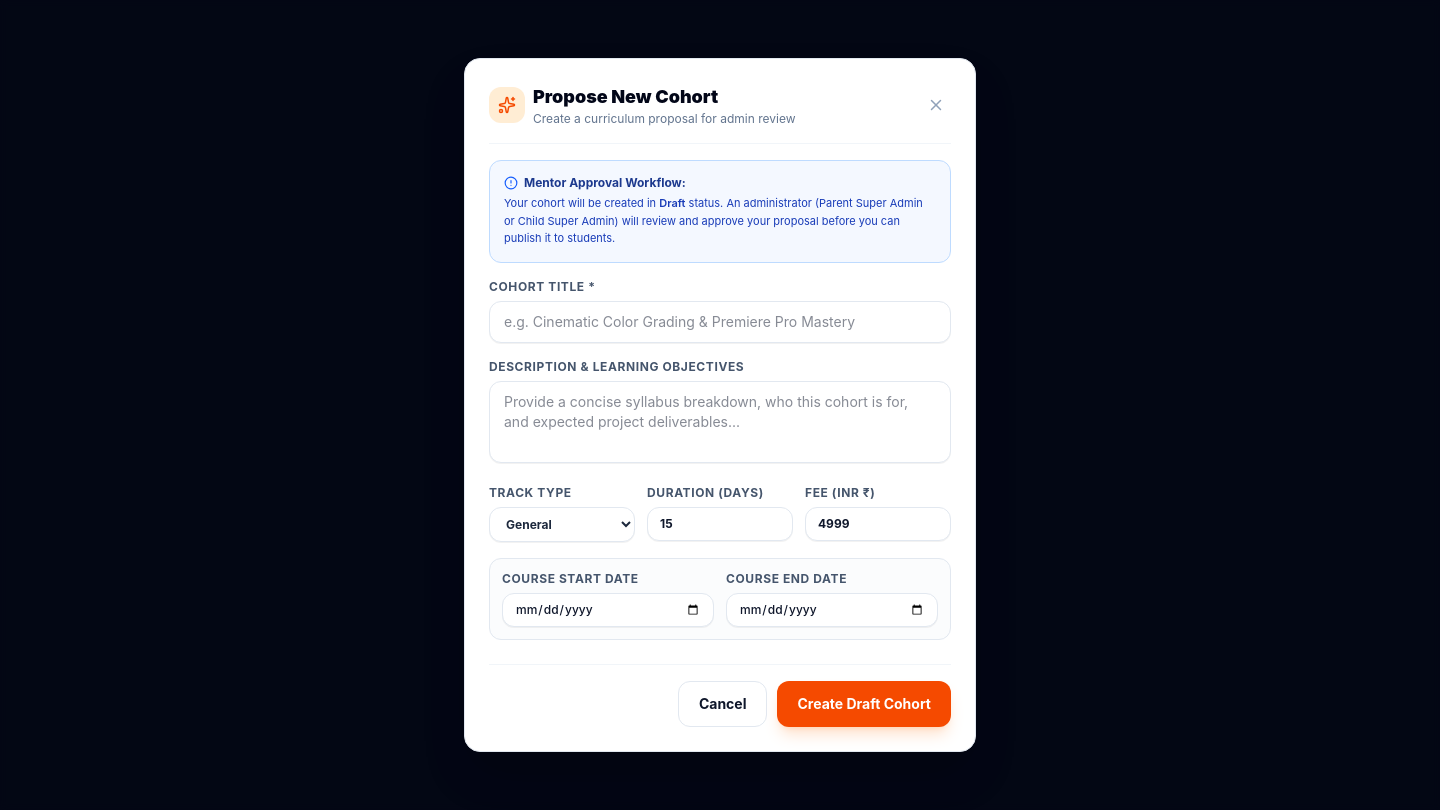
Scenario: MentorCreateCohortModal Schedule & Duration Tests › prevents submission when course end date is earlier than start date
Type "Test Cohort" into the field with placeholder "e.g. Cinematic Color Grading & Premiere Pro Mastery" at (720, 322), box [489, 301, 951, 343]
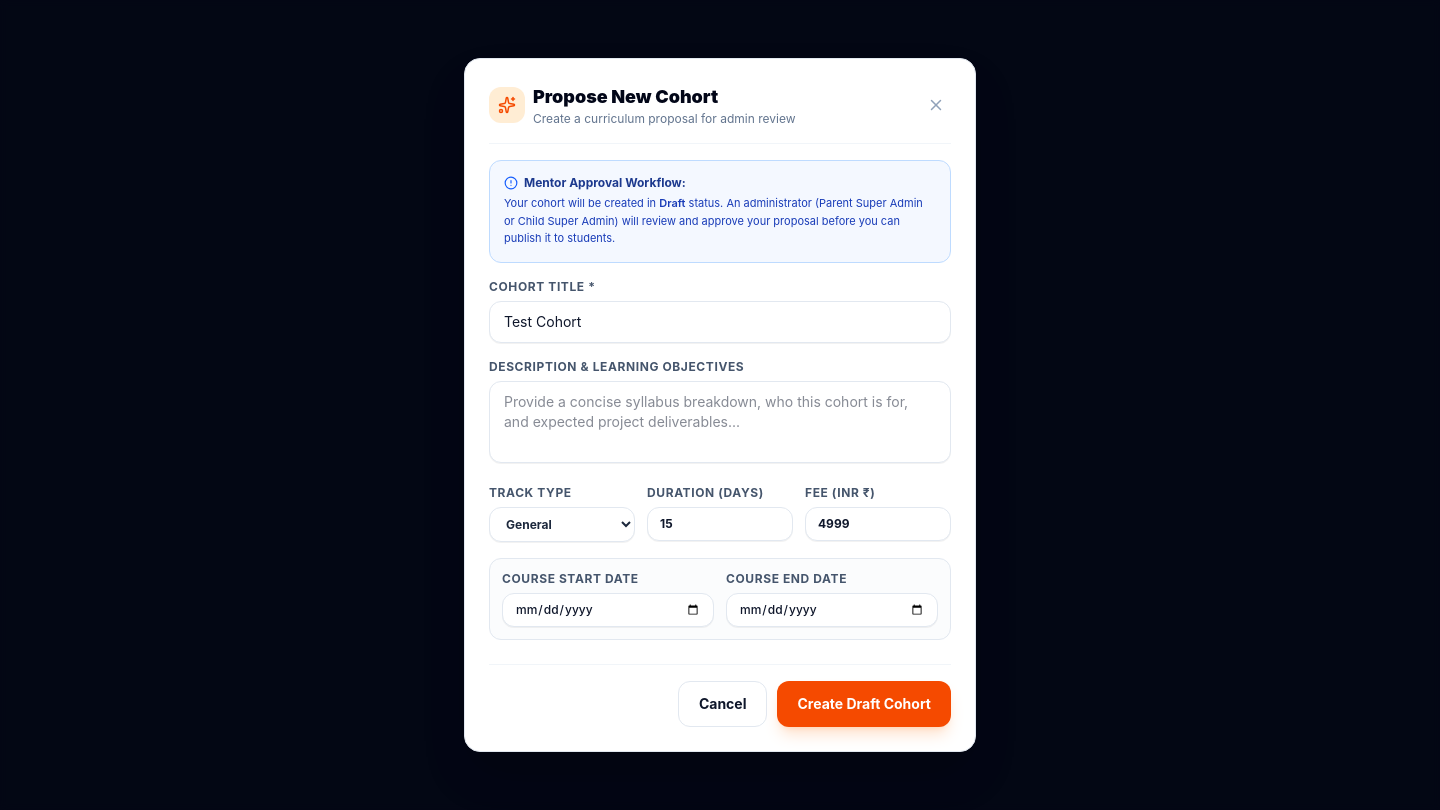
Type "2026-11-10" into the date field labelled "Course Start Date" at (608, 610), box [502, 593, 714, 627]
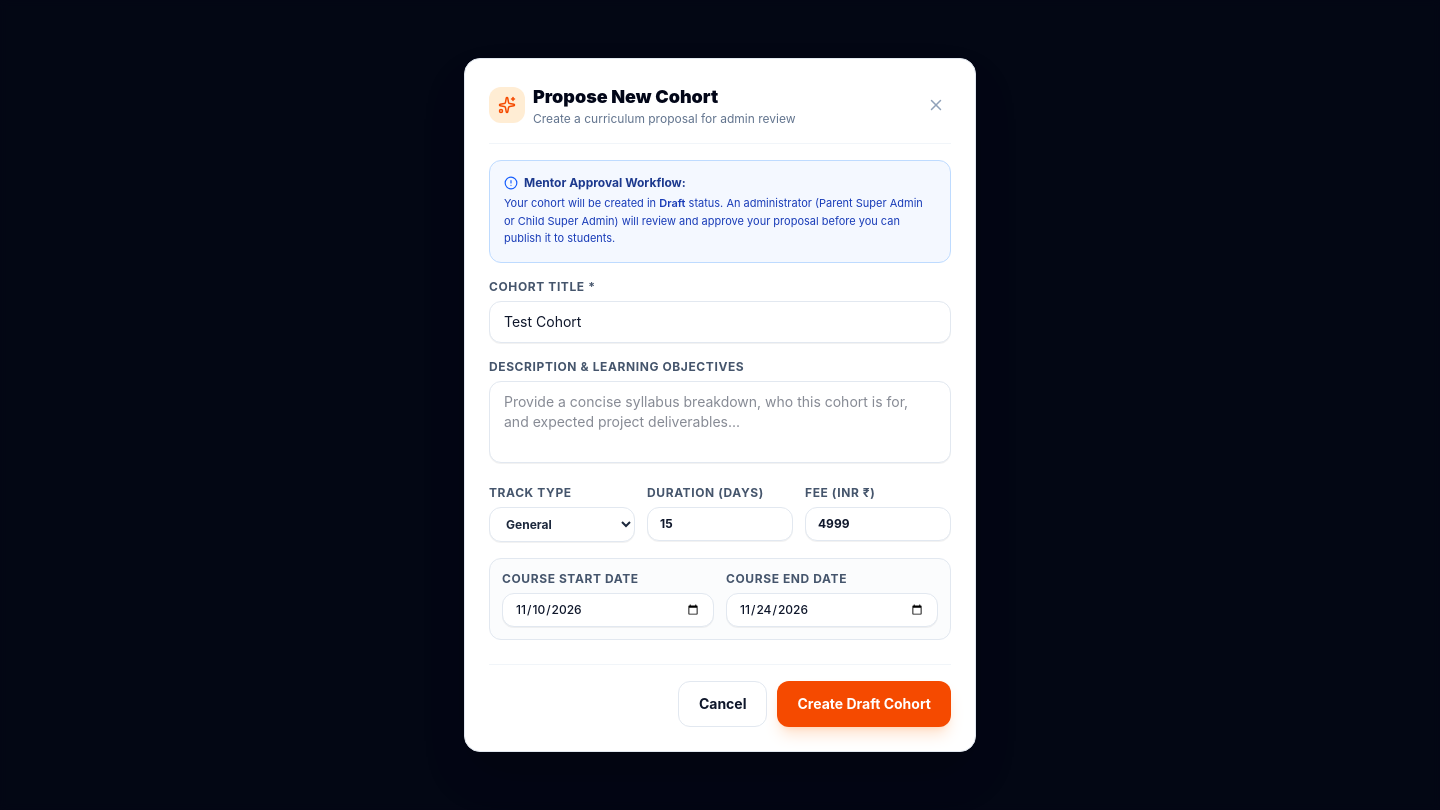
Type "2026-11-05" into the date field labelled "Course End Date" at (832, 610), box [726, 593, 938, 627]
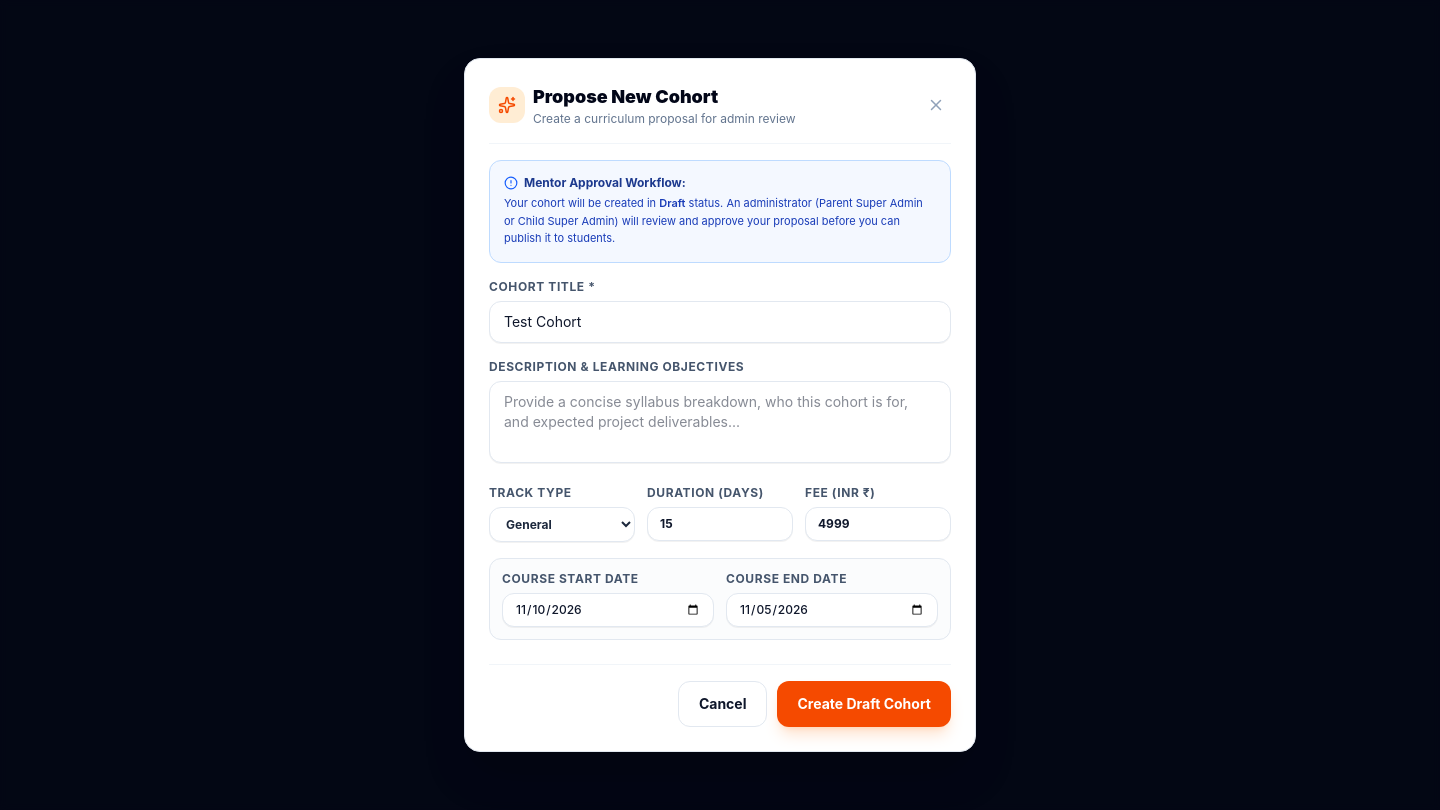
Click the button "Create Draft Cohort" at (864, 704), box [778, 681, 951, 727]
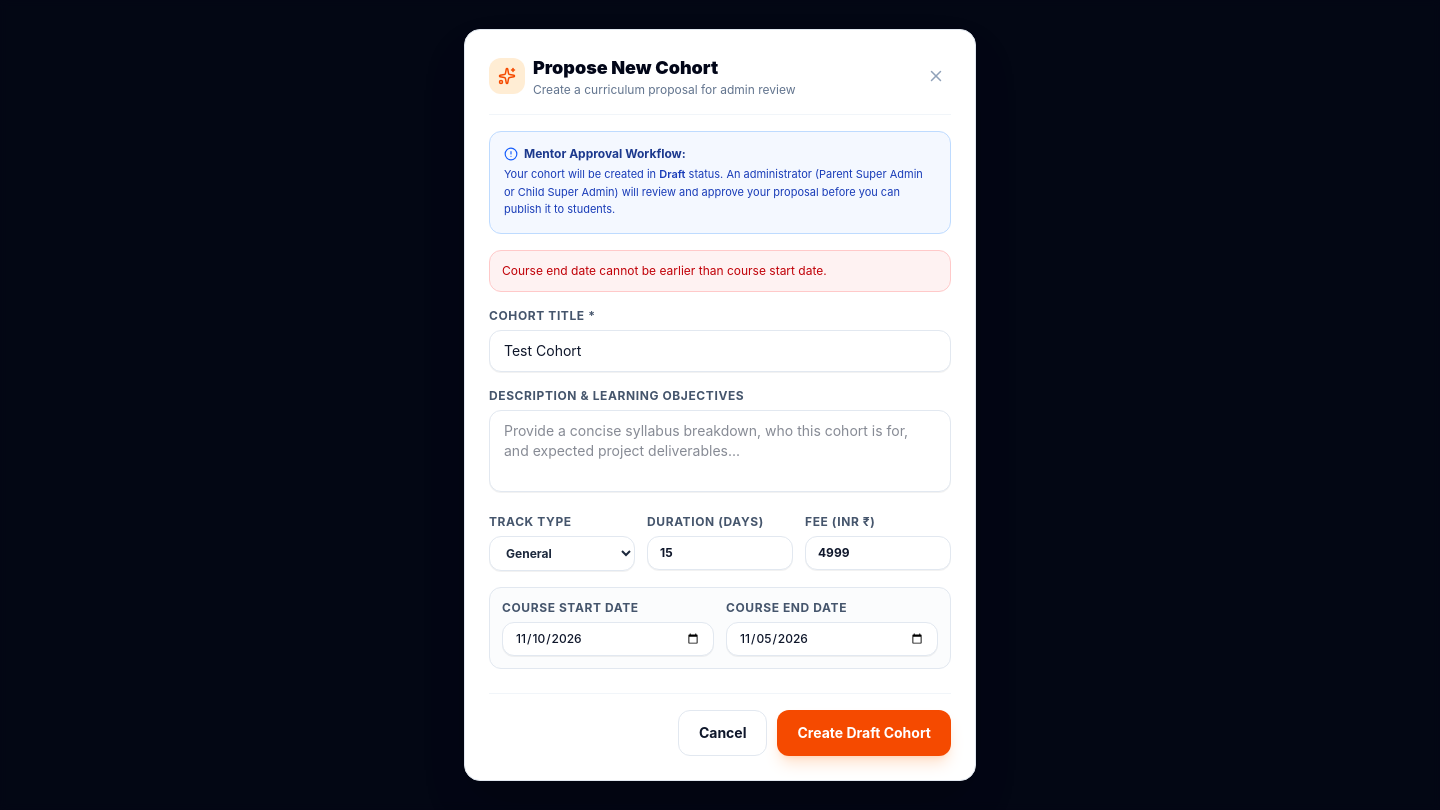
Expected: the text "Course end date cannot be earlier than course start date." is shown, [489, 250, 951, 292]
